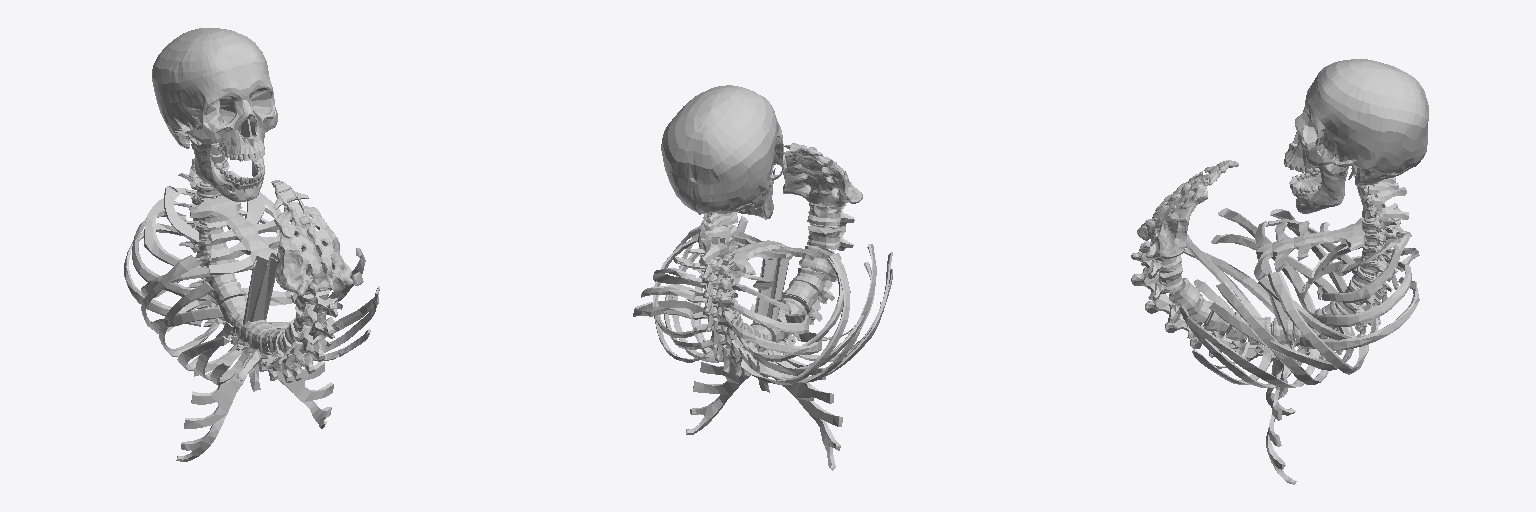
Rendered from rough-human-ouroboros.obj.
3 renders of one model, left to right at view 1: azimuth 30°, elevation 25°; view 2: azimuth 150°, elevation 25°; view 3: azimuth 270°, elevation 25°, orthographic.
Parts seen in each view (by area): view 1: Object_3.001; view 2: Object_3.001; view 3: Object_3.001.
Part boxes in pixels (x1,y1,x2,y2): Object_3.001: (124, 28, 379, 461); Object_3.001: (633, 85, 892, 470); Object_3.001: (1131, 59, 1428, 484).
Size of the model in its own units: 12.08 by 23.68 by 16.59.